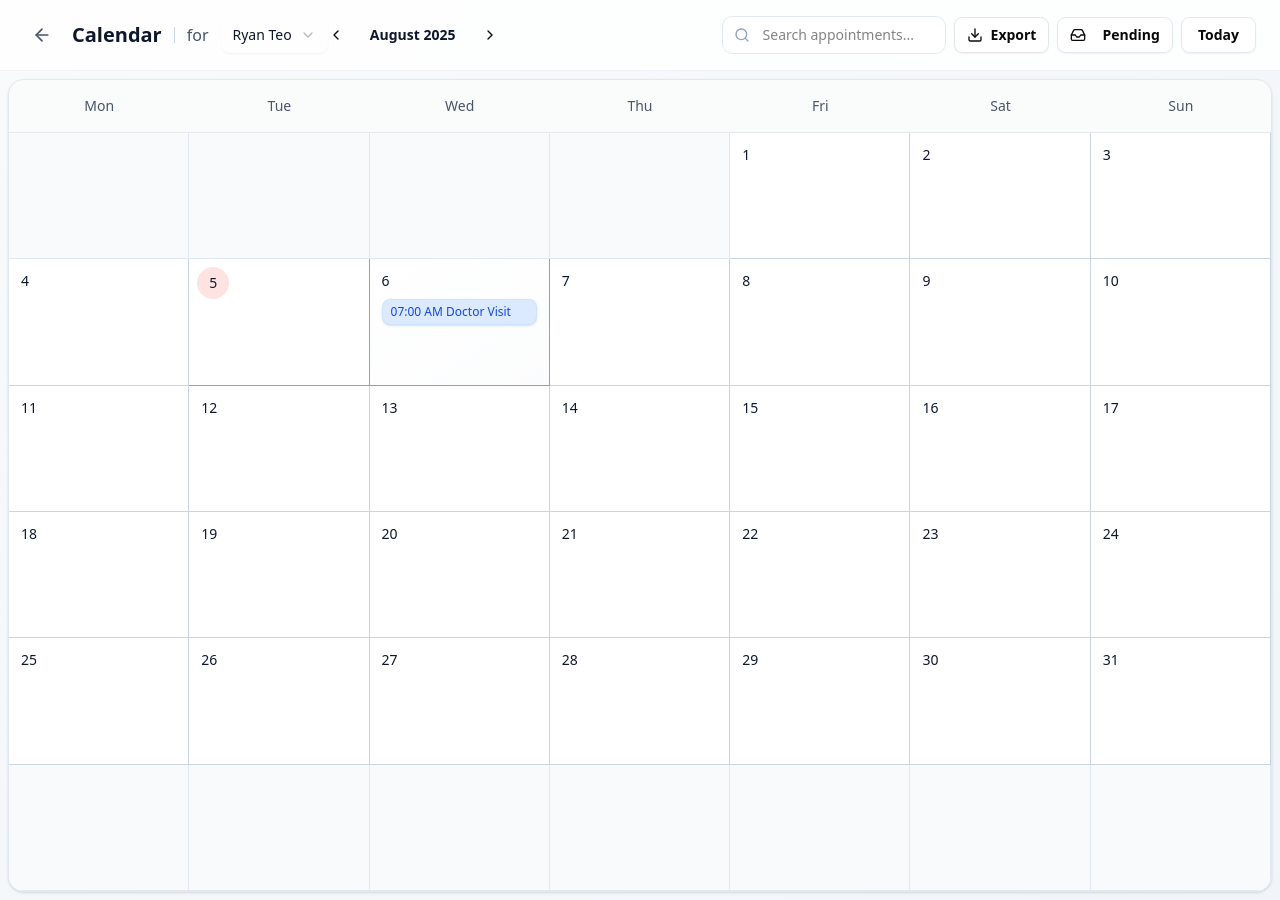
it: Celendarcell on click › should render the dayview when clicked
Step 1. Click the text "1" → click(746, 155), box [742, 145, 750, 165]
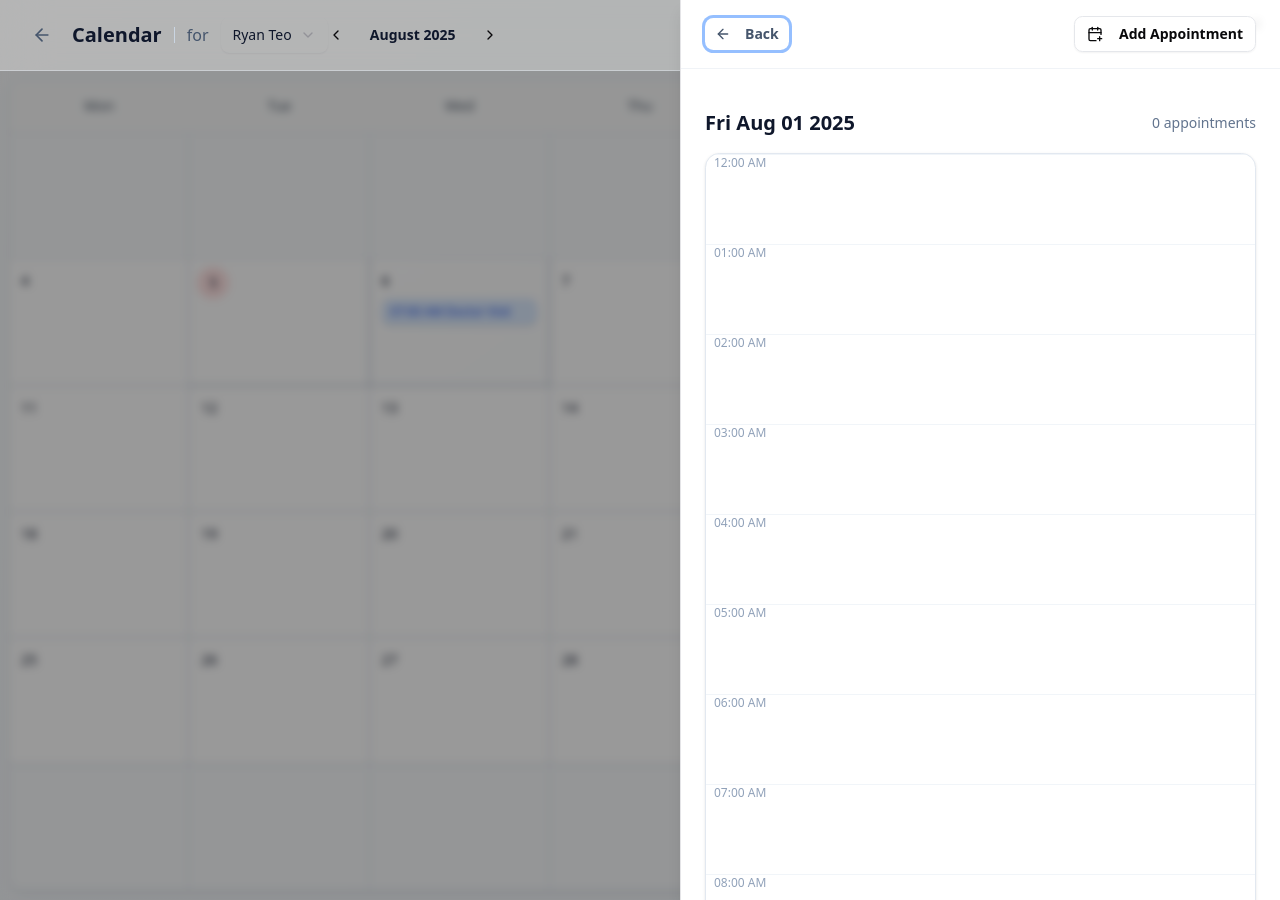
Now the button "Add Appointment" is shown, box [1074, 16, 1256, 52]
Now the heading "Fri Aug 01 2025" is shown, box [705, 109, 855, 137]
